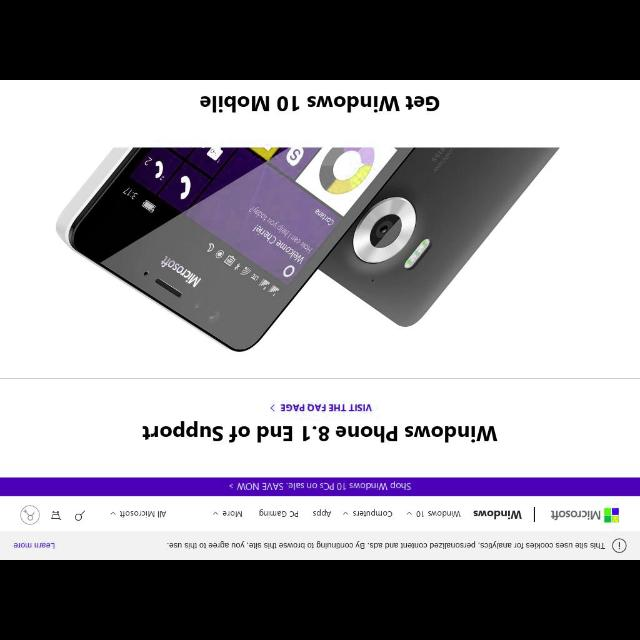icon: (20, 506, 40, 524), (611, 540, 627, 552), (74, 508, 86, 520), (50, 510, 61, 520), (407, 508, 413, 518), (110, 510, 118, 516), (270, 404, 276, 412), (212, 509, 218, 516), (342, 509, 348, 516)
iframe: (2, 536, 636, 558)
image: (1, 148, 639, 378), (551, 506, 619, 524)
link: (280, 401, 372, 413), (14, 542, 56, 550)
spinner: (210, 509, 220, 516), (341, 510, 352, 516), (406, 510, 414, 518), (110, 510, 120, 516)
text: (142, 425, 498, 443), (200, 96, 438, 112), (168, 542, 604, 548), (235, 481, 410, 492), (472, 508, 522, 520), (120, 510, 166, 518), (258, 510, 298, 518), (416, 512, 460, 518), (352, 511, 392, 517), (313, 510, 332, 518), (222, 509, 242, 516)
